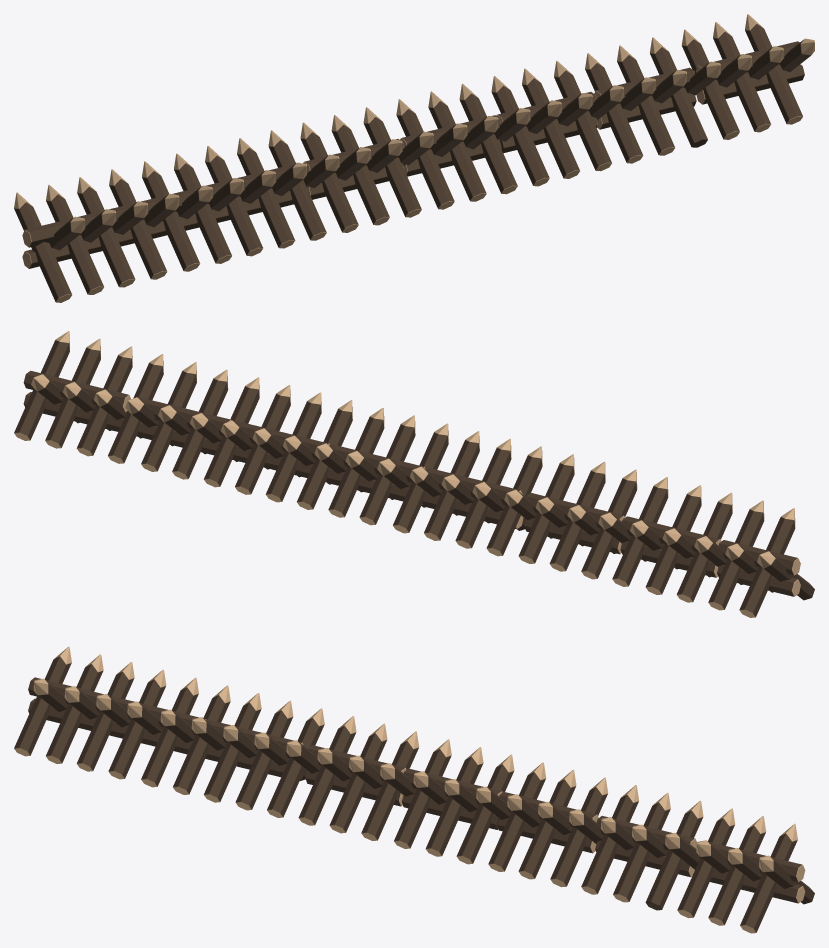
Rendered from Wall_S2.fbx.
3 renders of one model, top to bottom at view 1: azimuth 30°, elevation 25°; view 2: azimuth 150°, elevation 25°; view 3: azimuth 330°, elevation 25°, orthographic.
Parts seen in each view (by area): view 1: Cylinder.002; view 2: Cylinder.002; view 3: Cylinder.002.
Boxes of the visible parts, <box> form: Cylinder.002: <box>14,14,814,302</box>; Cylinder.002: <box>14,331,814,617</box>; Cylinder.002: <box>14,646,814,933</box>.
Bounding box in the file's own units: 3537 × 367 × 406.
